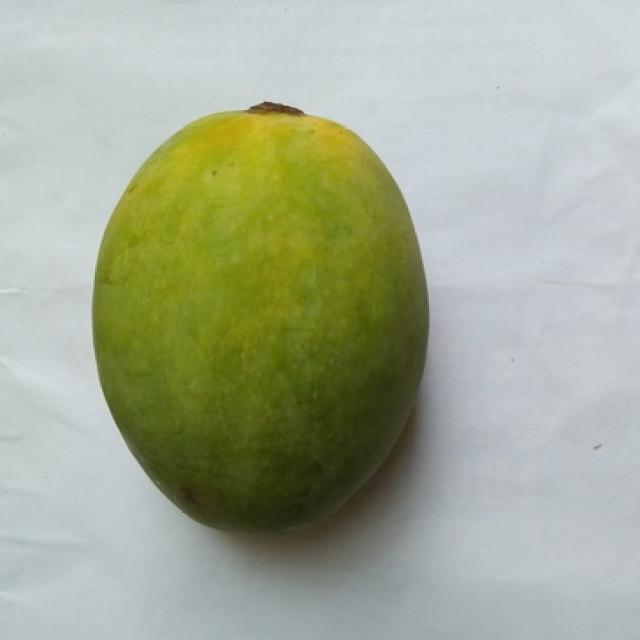Mango: (93, 103, 427, 531)
